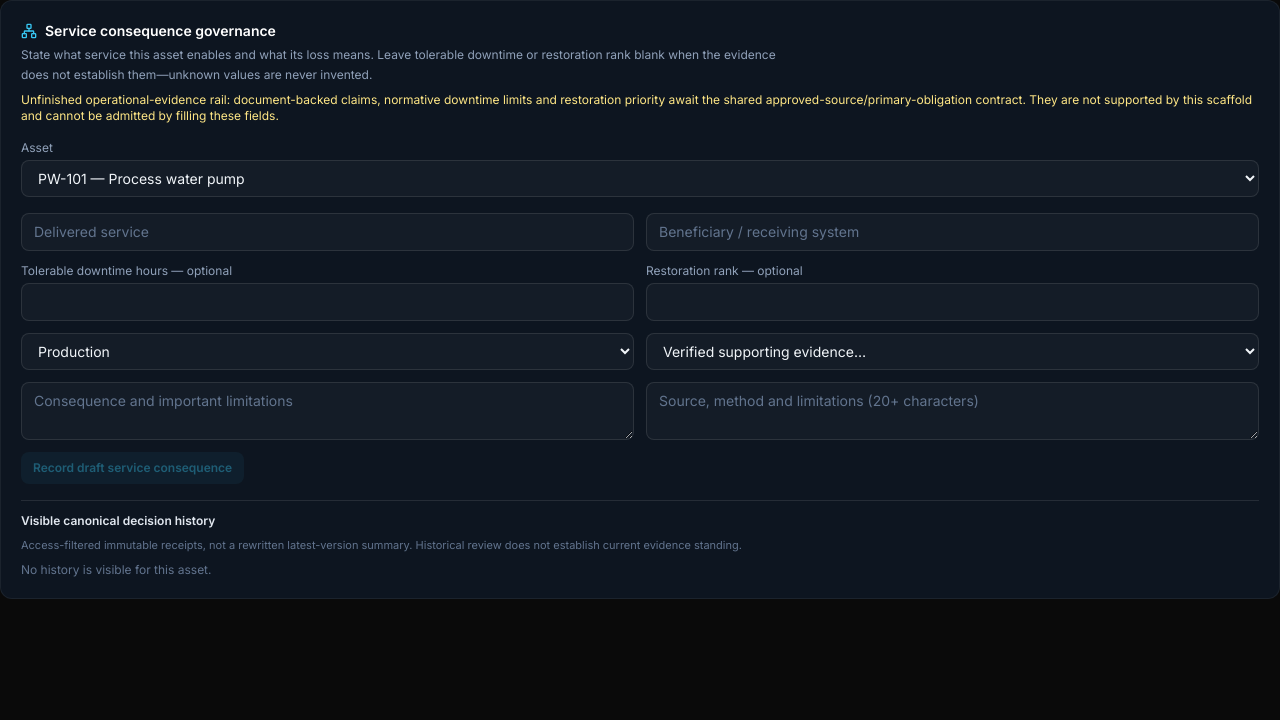
ServiceLevelGovernancePanel › clears unsaved engineering input when switching between two assets without rows
The width and height of the screenshot is (1280, 720).
Type "Unsaved service for first asset" into the field named "Service name" at (328, 232), box [21,213,634,251]
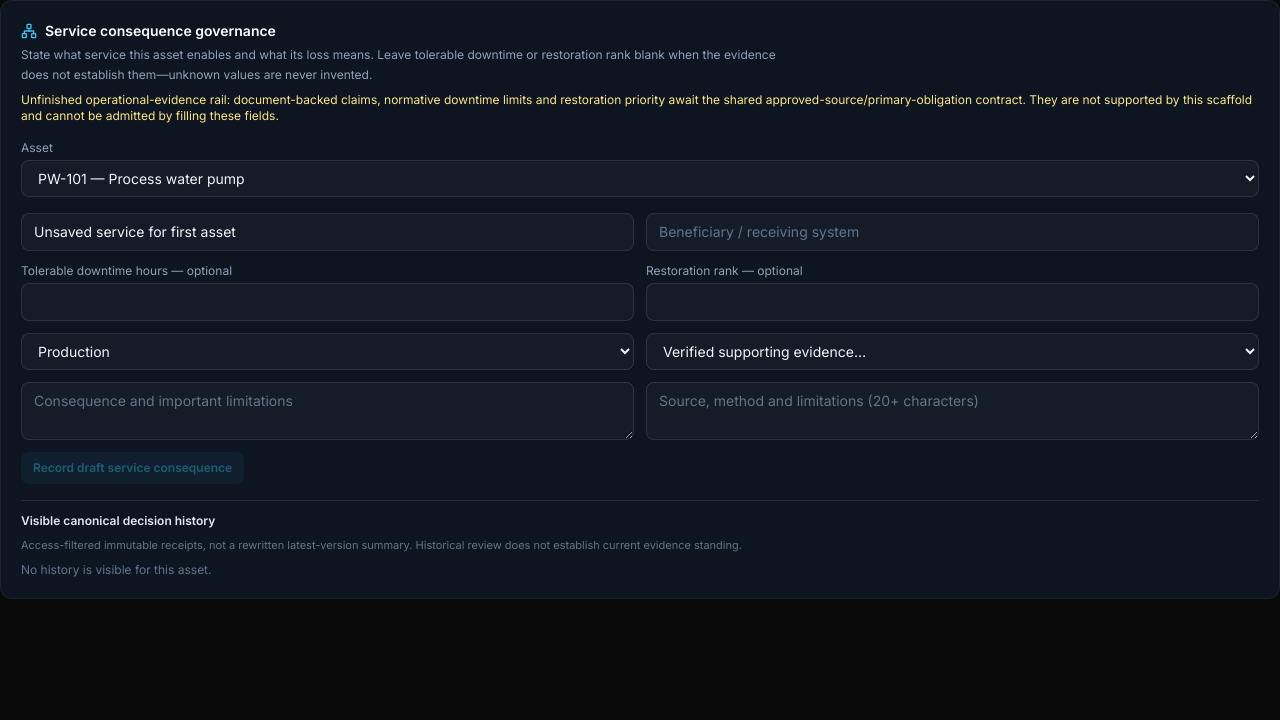
Select "PW-102 — Backup pump" in the dropdown labelled "Asset" at (640, 178), box [21,160,1259,197]
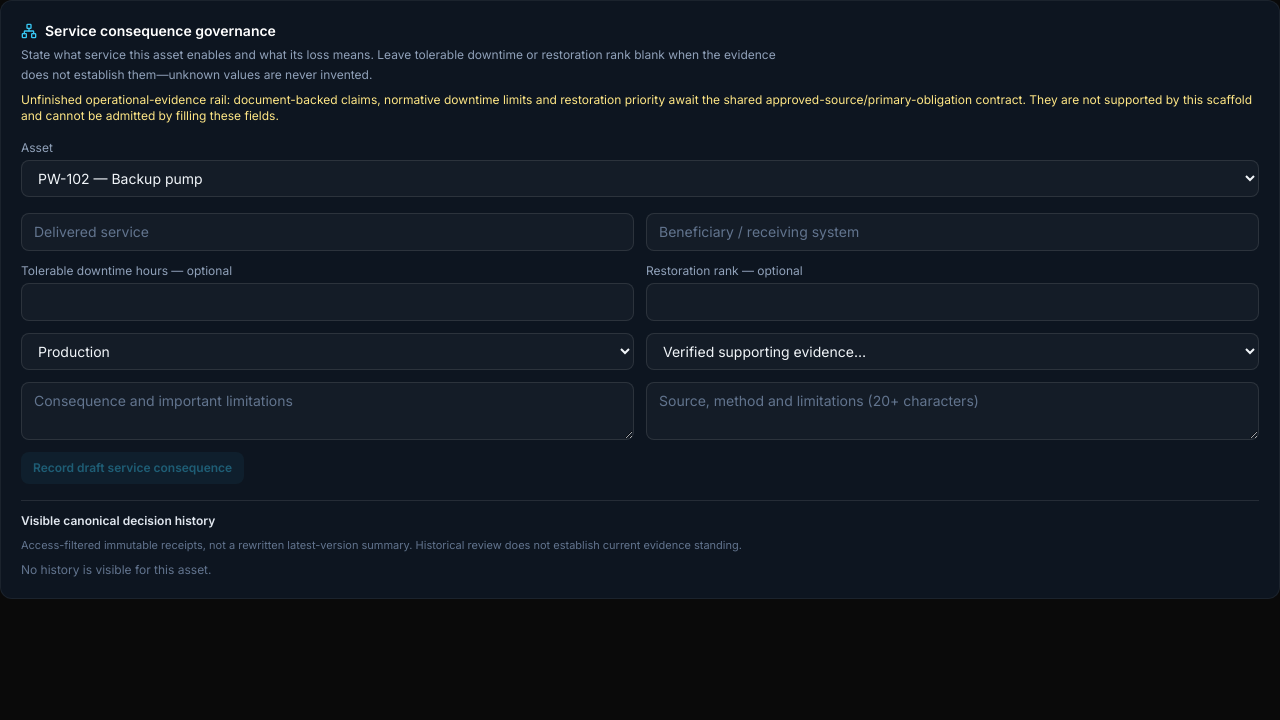
Check: the field named "Service name" is empty, box [21,213,634,251]
